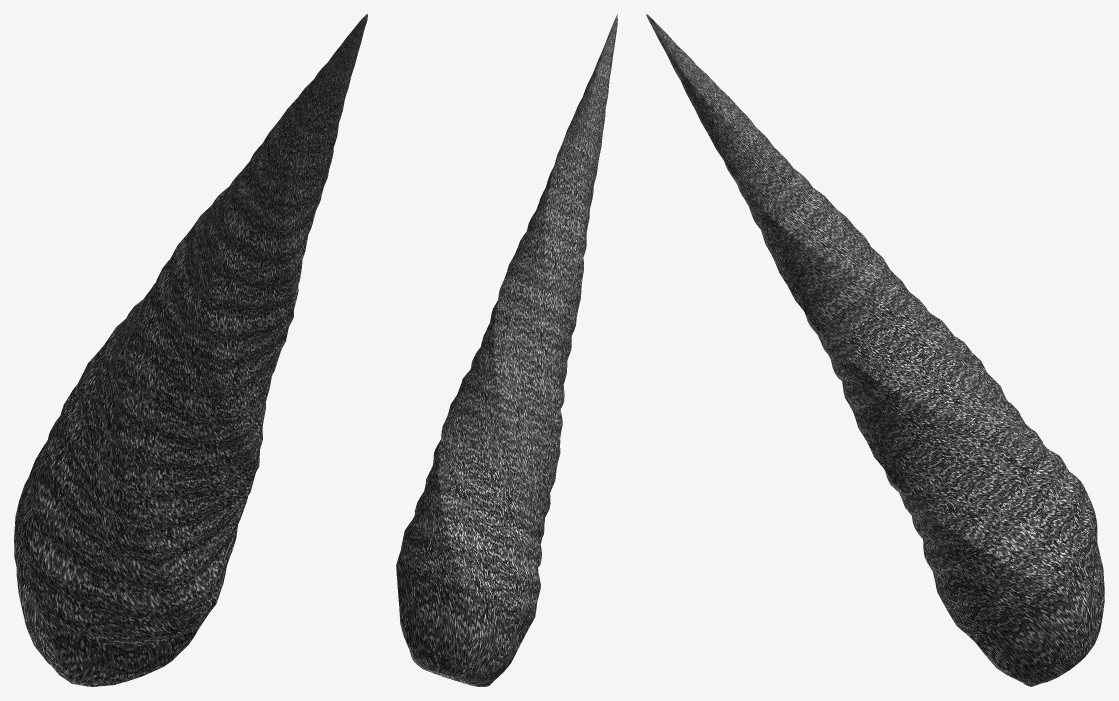
Rendered from unicornhorn.glb.
3 views of the same model, side by side, from view 1: azimuth 30°, elevation 25°; view 2: azimuth 150°, elevation 25°; view 3: azimuth 270°, elevation 25° (orthographic). The views are drawn at different scales.
Parts seen in each view (by area): view 1: unicornhorn; view 2: unicornhorn; view 3: unicornhorn.
Boxes of the visible parts, x1,y1,x2,y2 form: unicornhorn: (14, 14, 367, 686); unicornhorn: (396, 14, 617, 686); unicornhorn: (646, 14, 1104, 686).
Size of the model in its own units: 0.0493 by 0.195 by 0.1217.
Materials: 1 (1 with a texture image).
